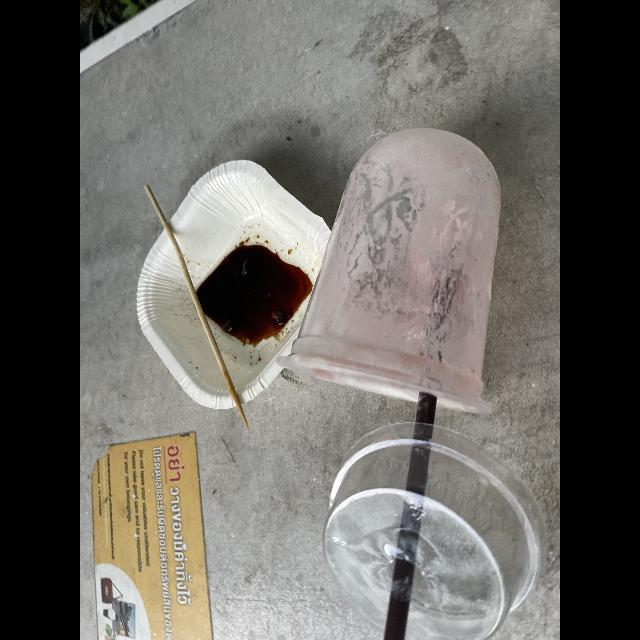cardboard_bowl: (130, 158, 336, 416)
plastic_cup: (276, 125, 507, 418)
plastic_cup_lid: (327, 422, 546, 640)
stick: (134, 178, 258, 436)
straw: (376, 388, 442, 640)
